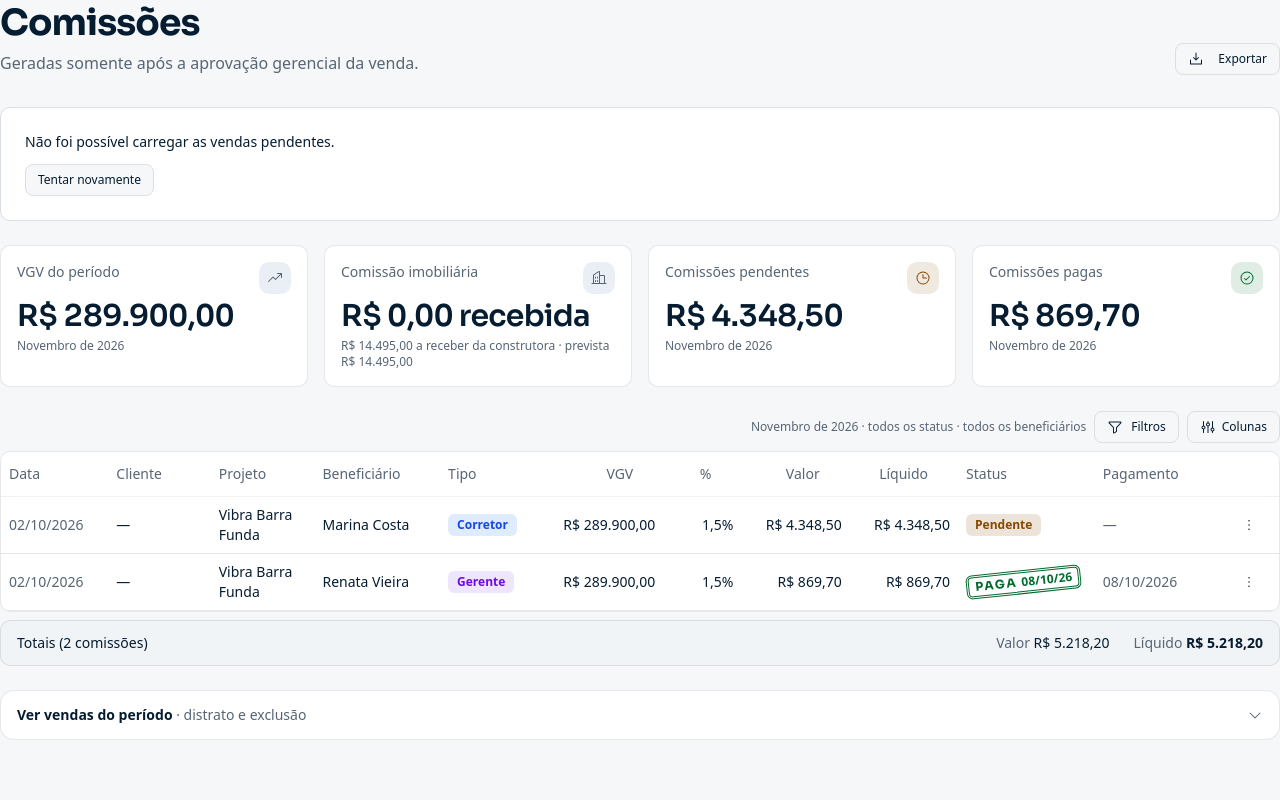
Scenario: Comissões no padrão Lançamento › os filtros moram atrás de 'Filtros', com o estado em texto, e o cabeçalho fica com Exportar
Expected: the button "Exportar" is shown, [1175,43,1279,75]
Step 1. Click the button "Filtros" → (1137, 427), box [1094,411,1179,443]
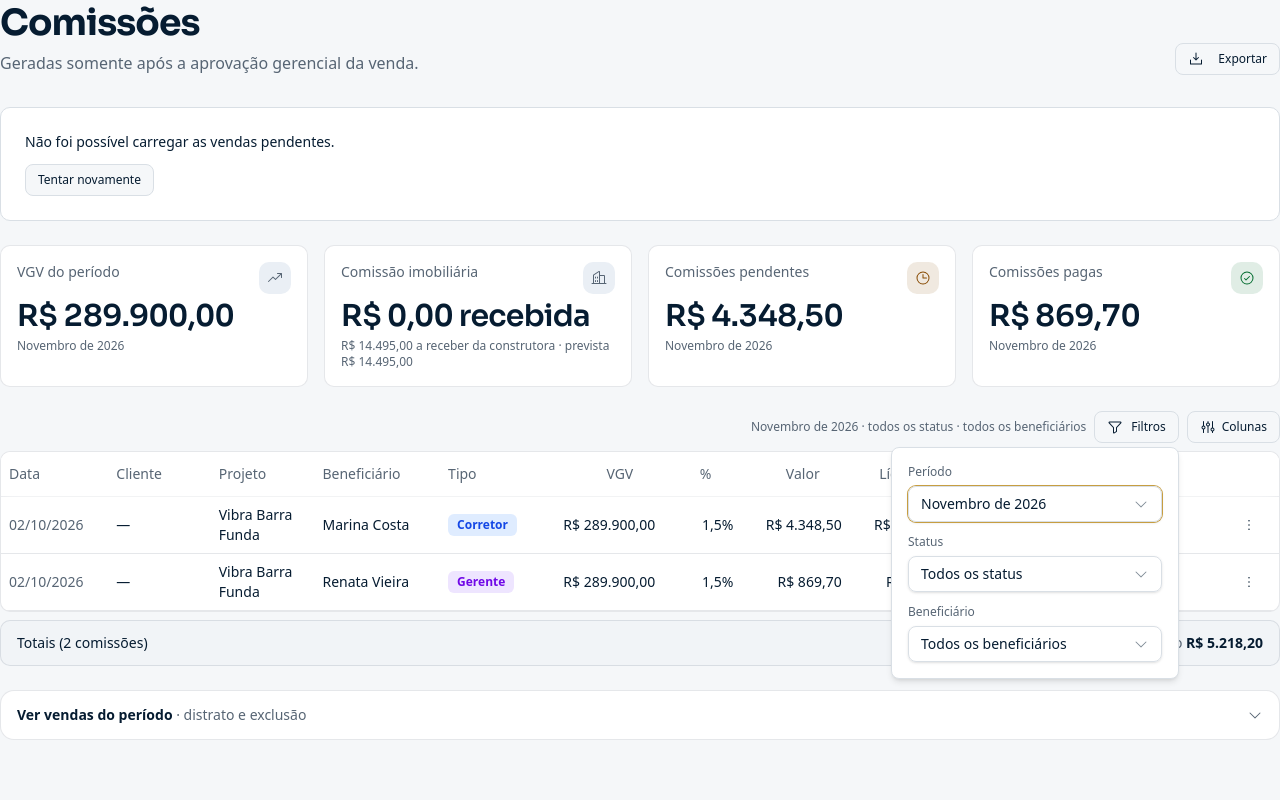
Result: the dropdown labelled "status" is shown at [908,556,1162,592]
Result: the dropdown named "Período" is shown at [908,486,1162,522]
Result: the dropdown labelled "beneficiário" is shown at [908,626,1162,662]
